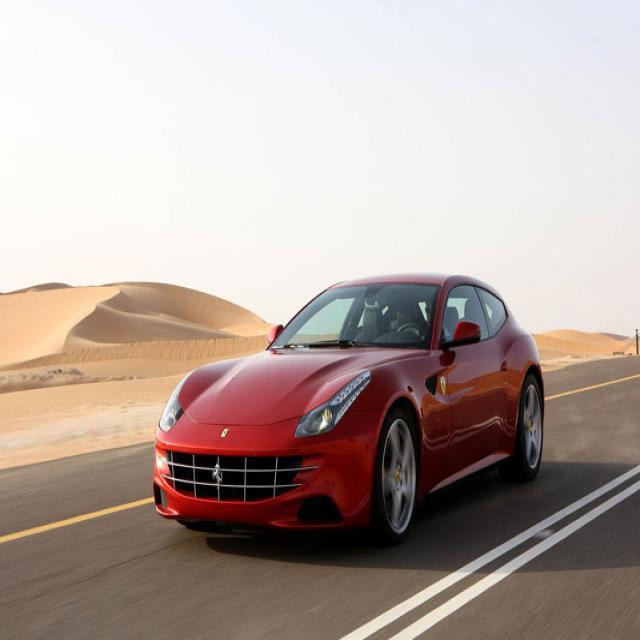car: (143, 266, 557, 538)
